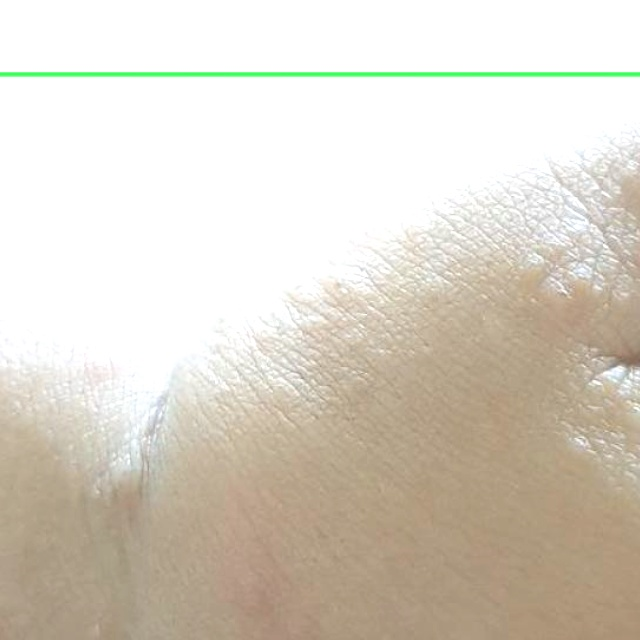Scabies: (0, 74, 639, 639)
